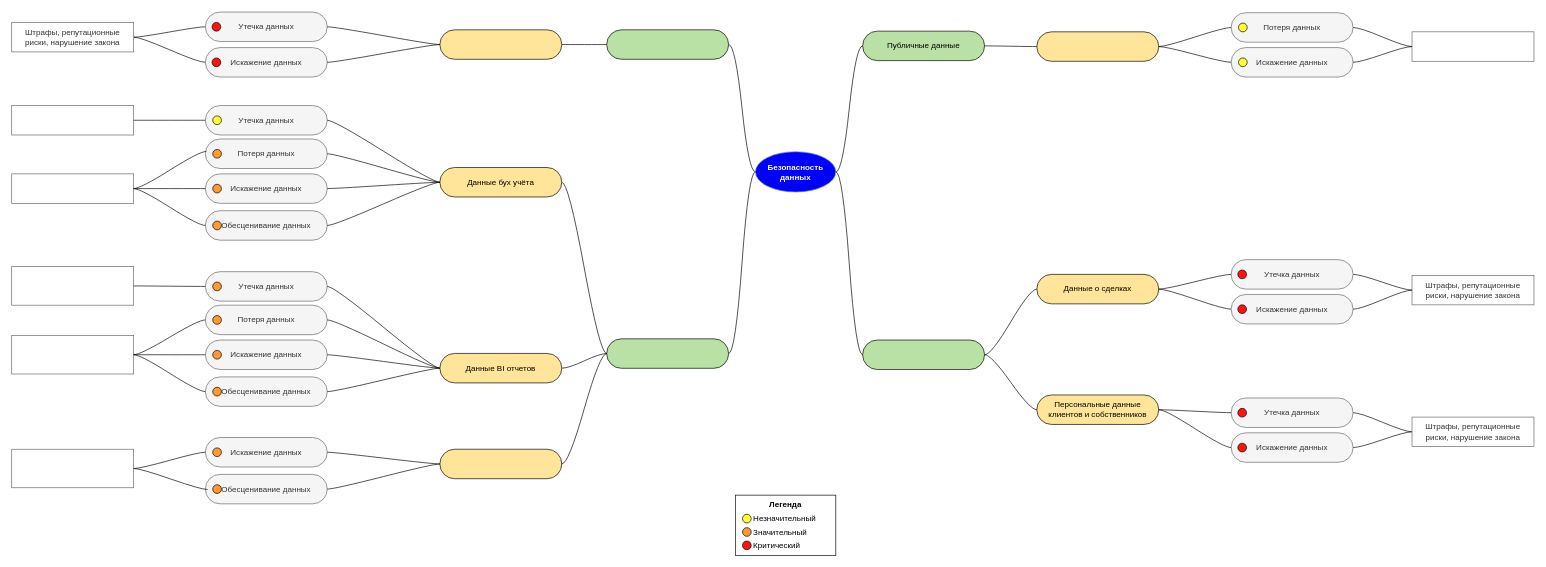
Image size: 1546x567. Some labels were removed from this diagram. The shapes that lost their labels are listed below. From the top down, each one's centre as x and y in pixels, then its label:
At (500,44): "Платежные данные".
At (667,44): "Секретные данные".
At (1097,46): "Данные объектов недвижимости".
At (1472,46): "Недополученная прибыль, репутационные риски".
At (72,120): "Репутационные риски".
At (72,188): "Ошибки в финансовых отчетах, штрафы".
At (72,285): "Репутационные риски, потеря конкурентного преимущества".
At (72,354): "Ошибки в отчетах, ошибки в принятии решений, ошибки в оценках".
At (667,353): "Внутренние данные".
At (923,354): "Конфиденциальные данные".
At (72,468): "Репутационные риски, невыполнение обязательств перед клиентами".
At (500,464): "Данные услуг ЖКХ".
